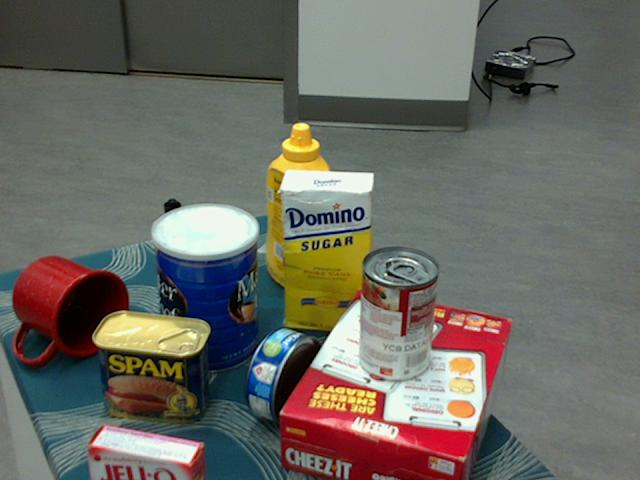cracker_box: (278, 290, 511, 479)
gelatin_box: (84, 422, 201, 479)
large_marker: (164, 198, 183, 297)
master_chef_can: (151, 203, 258, 375)
mug: (11, 255, 128, 364)
mustard_bottle: (265, 122, 332, 296)
potted_meat_can: (91, 309, 209, 422)
sugar_box: (280, 168, 374, 335)
tomato_soup_can: (356, 247, 439, 383)
tuna_fish_can: (245, 328, 322, 426)
